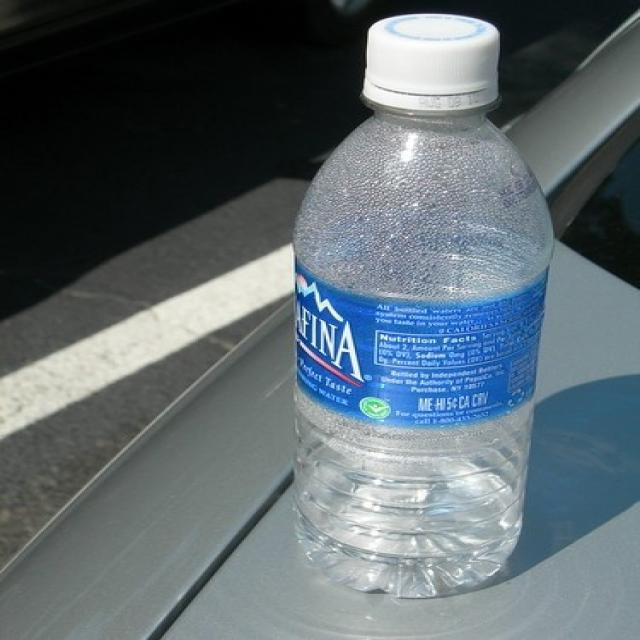plastic_bottle: (293, 12, 555, 598)
